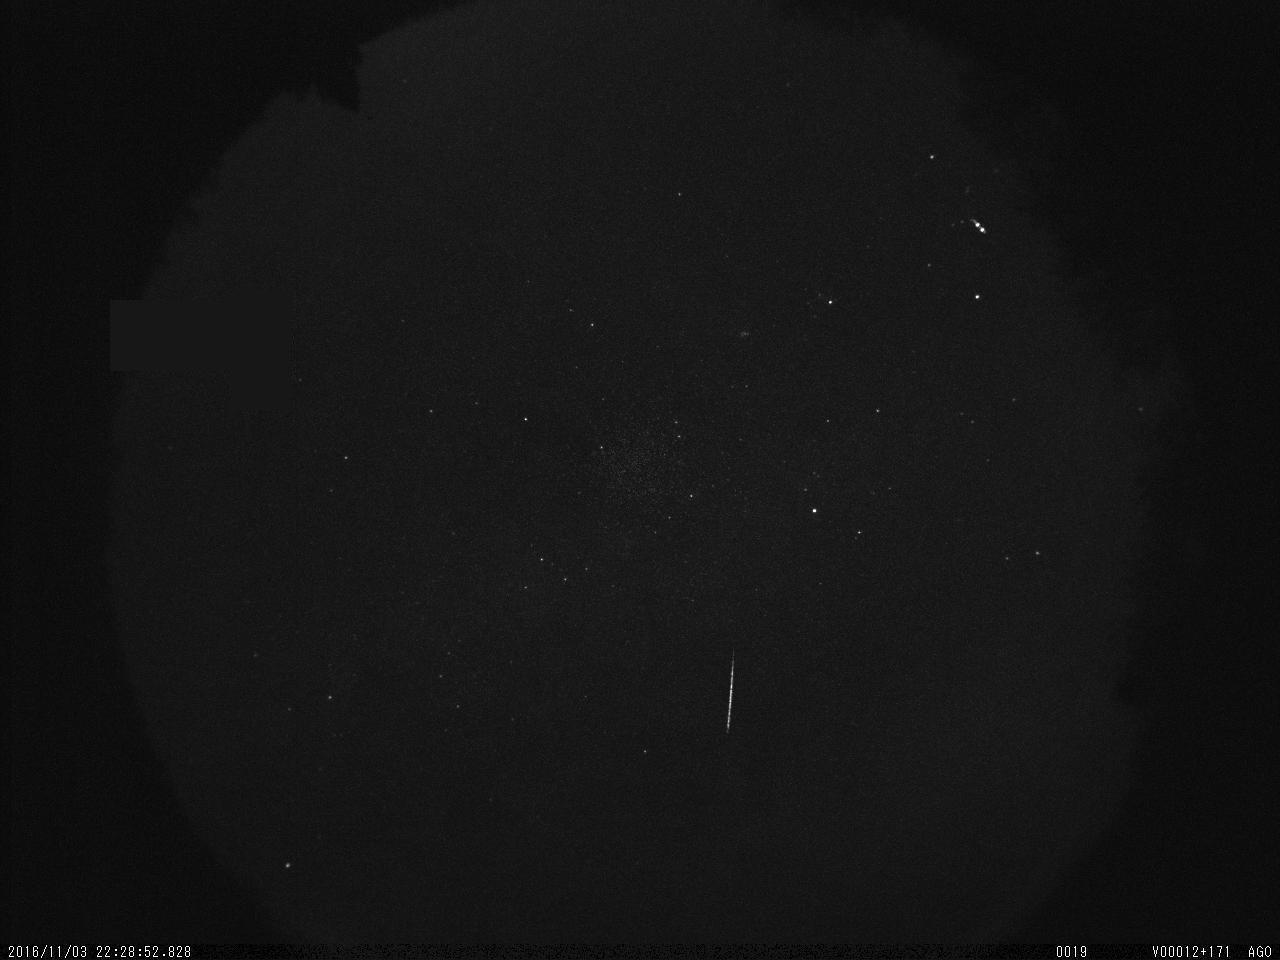Meteor: (722, 647, 737, 734)
